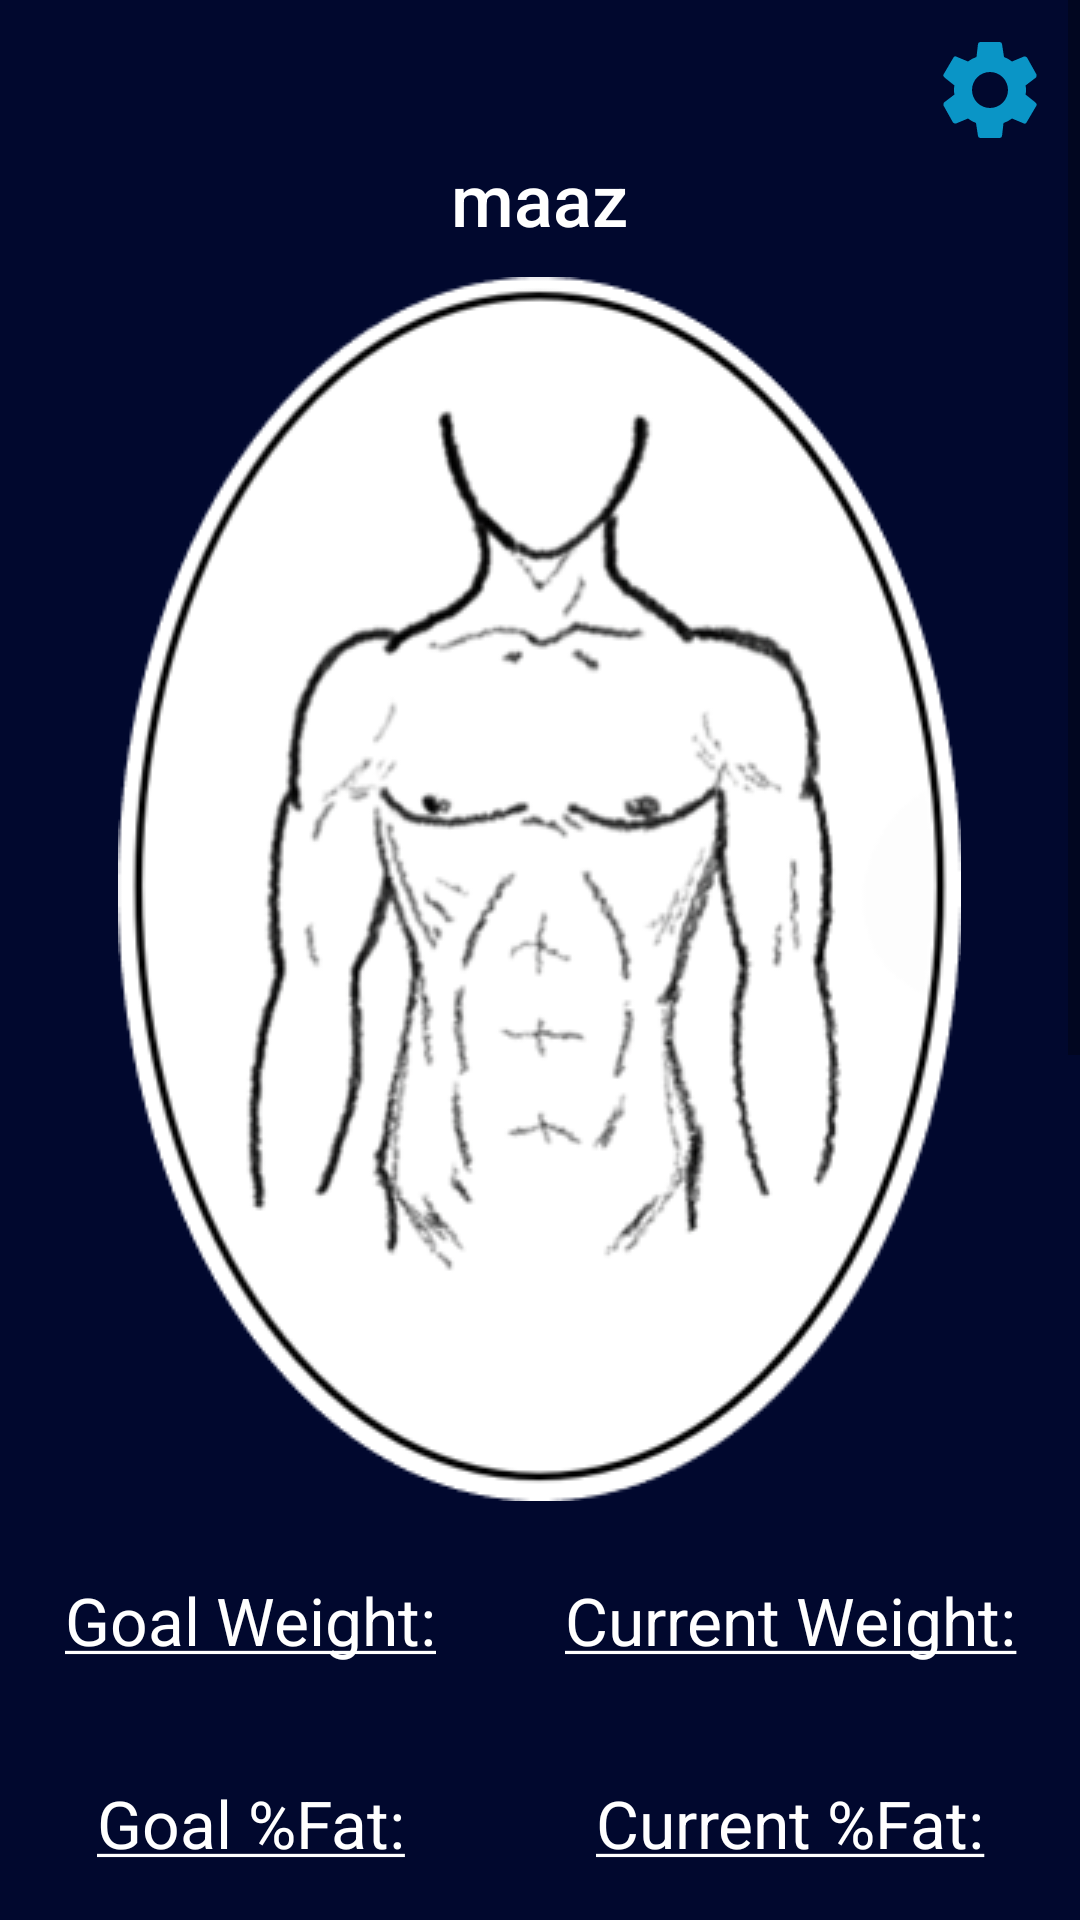

Named icons in this screenshot (1080 × 1920) and their centers, [x,y]:
settings: [990,90]
